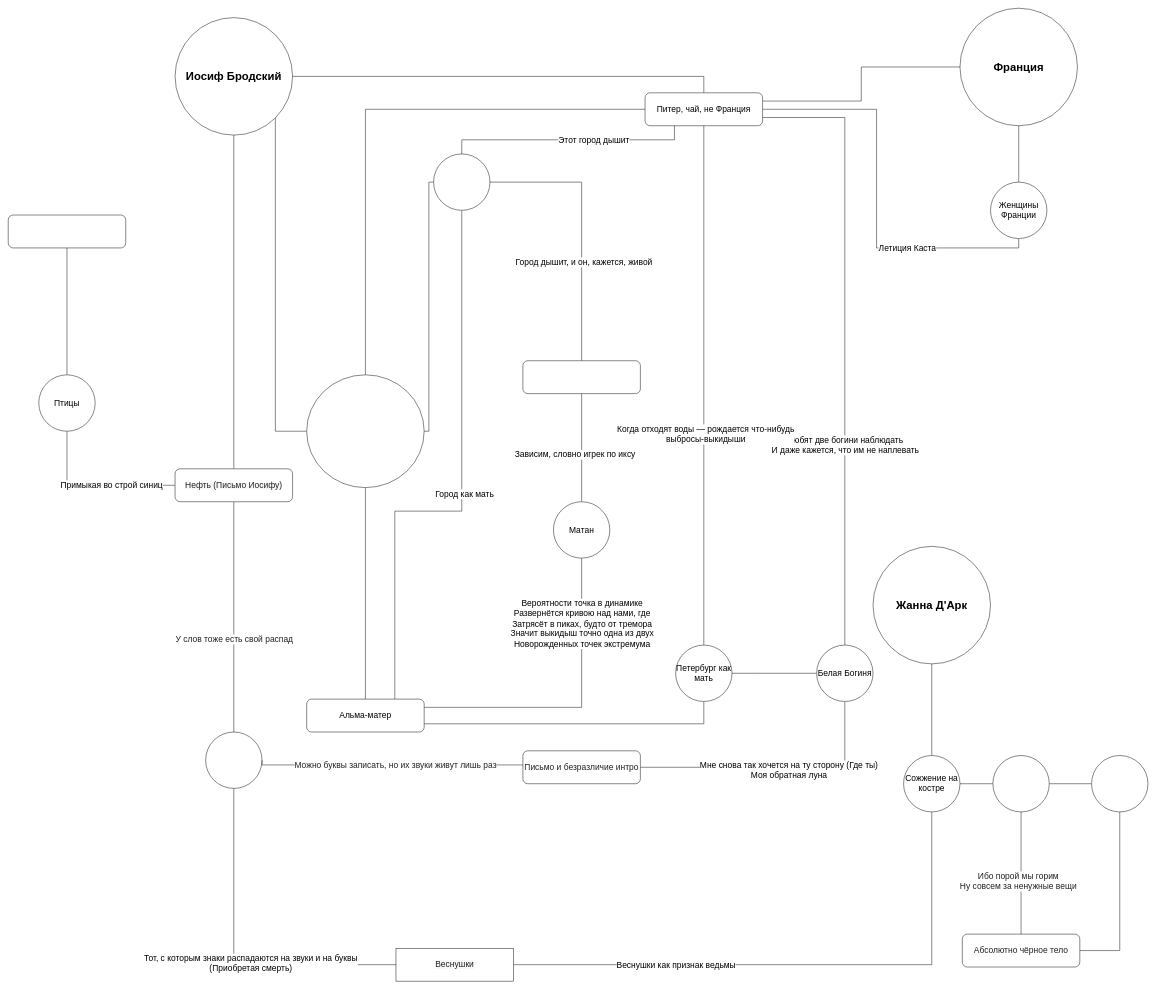
Some shapes in this 1156 by 989 pixel diagram are drawn without their labels. Each missing label, with the box of its shape:
Да что романтичного в птичках?: (8, 215, 126, 248)
Зависимость: (522, 360, 640, 394)
Огонь: (992, 755, 1049, 812)
Петербург живой: (433, 153, 490, 210)
Распад слов (Энтропия): (205, 732, 262, 788)
Санкт-Петербург: (306, 374, 424, 488)
Свет: (1091, 755, 1148, 812)
